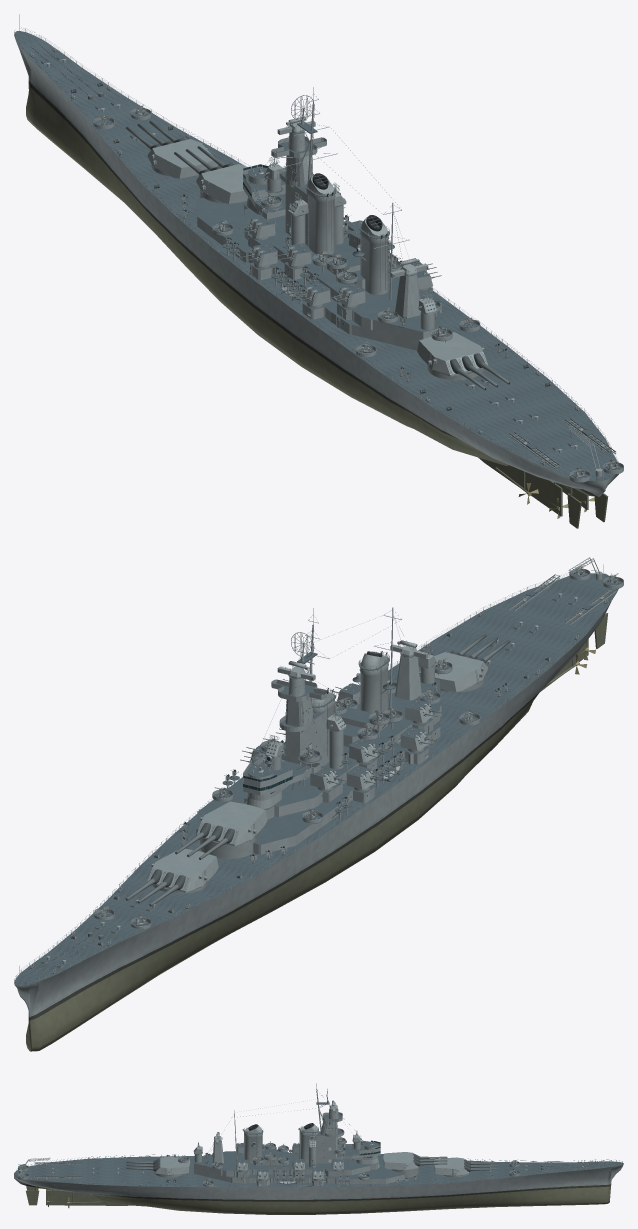
Rendered from iowa.glb.
3 renders of one model, top to bottom at view 1: azimuth 30°, elevation 25°; view 2: azimuth 150°, elevation 25°; view 3: azimuth 270°, elevation 25°, orthographic. The views are drawn at different scales.
Visible parts, largest first — view 1: Blueprint lofted hull, deckhouse-secondary.mesh, deckhouse-main.mesh, hull.mesh.001, hull.mesh, funnel-aft.mesh, funnel-forward.mesh, main-3.yaw.mesh, main-1.yaw.mesh, main-2.yaw.mesh, aircraft-handling.mesh, aft-director-base.mesh (+1 smaller); view 2: Blueprint lofted hull, deckhouse-main.mesh, deckhouse-secondary.mesh, hull.mesh, main-2.yaw.mesh, main-1.yaw.mesh, funnel-aft.mesh, tower-base.mesh, main-3.yaw.mesh, aircraft-handling.mesh, bridge-wing.mesh, aft-director-base.mesh (+6 smaller); view 3: Blueprint lofted hull, deckhouse-secondary.mesh, deckhouse-main.mesh, hull.mesh.001, hull.mesh, funnel-aft.mesh, tower-base.mesh, main-2.yaw.mesh, main-1.yaw.mesh, main-3.yaw.mesh, funnel-forward.mesh, aircraft-handling.mesh (+6 smaller).
Part boxes in pixels (<box>): Blueprint lofted hull: <box>14,31,620,496</box>; deckhouse-secondary.mesh: <box>244,202,441,341</box>; deckhouse-main.mesh: <box>196,197,418,350</box>; hull.mesh.001: <box>478,457,608,528</box>; hull.mesh: <box>14,14,618,480</box>; funnel-aft.mesh: <box>352,215,394,294</box>; funnel-forward.mesh: <box>305,173,336,254</box>; main-3.yaw.mesh: <box>417,332,487,376</box>; main-1.yaw.mesh: <box>147,139,217,178</box>; main-2.yaw.mesh: <box>196,164,247,203</box>; aircraft-handling.mesh: <box>509,418,615,476</box>; aft-director-base.mesh: <box>395,274,420,318</box>; Blueprint lofted hull: <box>14,573,621,1051</box>; deckhouse-main.mesh: <box>196,701,440,854</box>; deckhouse-secondary.mesh: <box>244,676,441,819</box>; hull.mesh: <box>14,564,618,985</box>; main-2.yaw.mesh: <box>197,801,267,846</box>; main-1.yaw.mesh: <box>147,848,218,892</box>; funnel-aft.mesh: <box>352,651,394,713</box>; tower-base.mesh: <box>285,711,327,780</box>; main-3.yaw.mesh: <box>419,652,488,691</box>; aircraft-handling.mesh: <box>509,557,616,625</box>; bridge-wing.mesh: <box>243,755,296,795</box>; aft-director-base.mesh: <box>395,655,421,700</box>; Blueprint lofted hull: <box>14,1156,623,1214</box>; deckhouse-secondary.mesh: <box>194,1151,378,1177</box>; deckhouse-main.mesh: <box>194,1154,404,1186</box>; hull.mesh.001: <box>26,1186,131,1207</box>; hull.mesh: <box>16,1154,622,1186</box>; funnel-aft.mesh: <box>242,1124,263,1163</box>; tower-base.mesh: <box>312,1131,337,1163</box>; main-2.yaw.mesh: <box>383,1152,418,1170</box>; main-1.yaw.mesh: <box>434,1157,468,1175</box>; main-3.yaw.mesh: <box>155,1156,190,1175</box>; funnel-forward.mesh: <box>298,1123,318,1163</box>; aircraft-handling.mesh: <box>19,1157,81,1179</box>.
Size of the model in its own units: 36.42 by 60.4 by 270.
14 materials, 10 textured.
